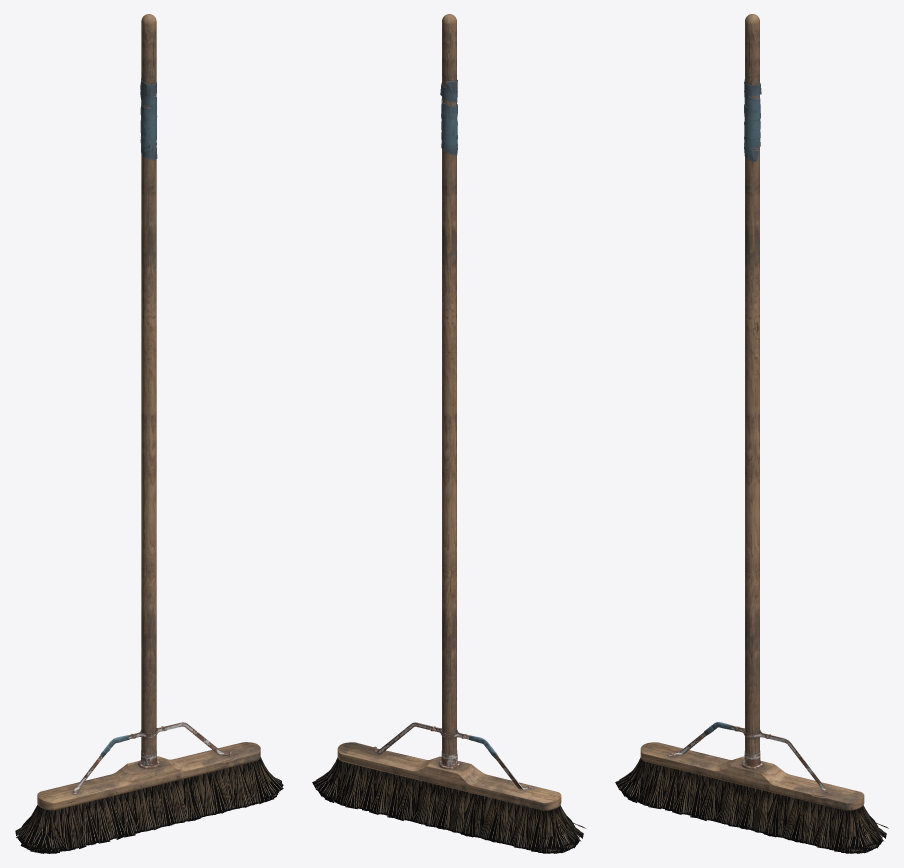
File: ph_wooden_broom.glb
3 renders of one model, left to right at view 1: azimuth 30°, elevation 25°; view 2: azimuth 150°, elevation 25°; view 3: azimuth 330°, elevation 25°, orthographic.
Visible parts, largest first — view 1: wooden_broom_bristles; view 2: wooden_broom_bristles; view 3: wooden_broom_bristles.
Boxes of the visible parts, box(x1,y1,x2,y2) form: wooden_broom_bristles: box(15, 14, 283, 853); wooden_broom_bristles: box(312, 14, 585, 853); wooden_broom_bristles: box(615, 14, 888, 853).
Bounding box in the file's own units: 0.4902 × 1.45 × 0.1125.
Materials: 2 (2 with a texture image).
